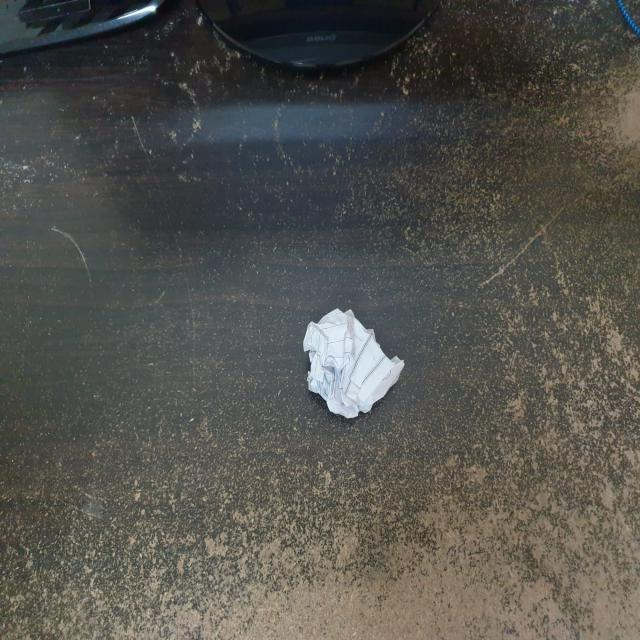Paper: (306, 309, 405, 415)
